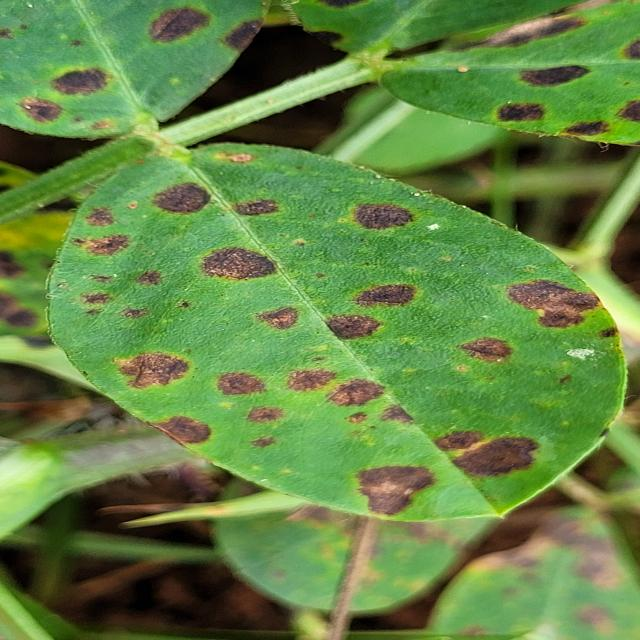Ground nut_tikka leaf spot: (55, 146, 640, 518), (3, 0, 260, 139), (398, 18, 640, 142)
